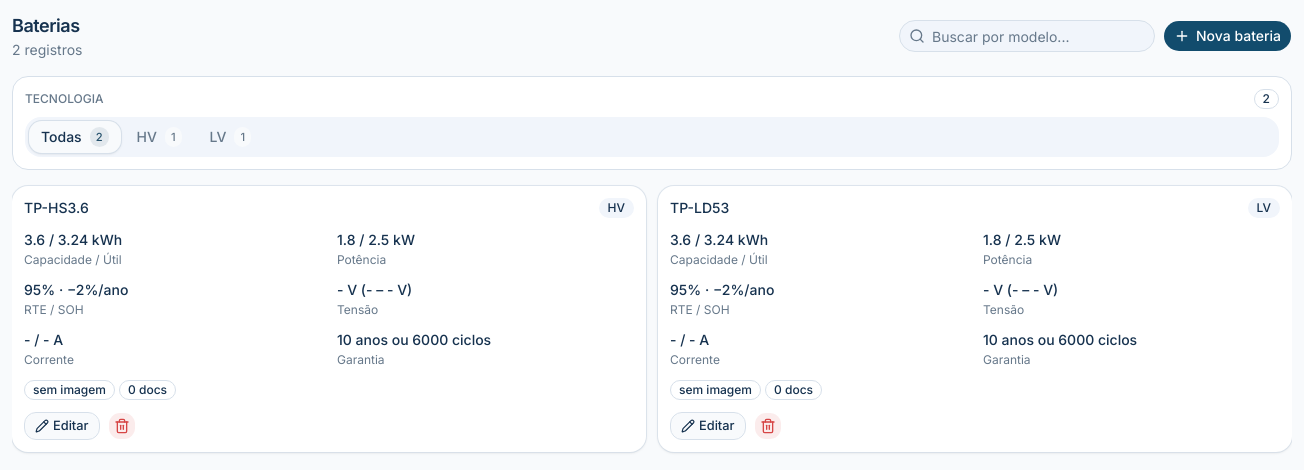
Scenario: BatteriesEditor: listing › filters by topology tab
Click the button "LV 1" at (230, 137), box [198, 121, 263, 153]
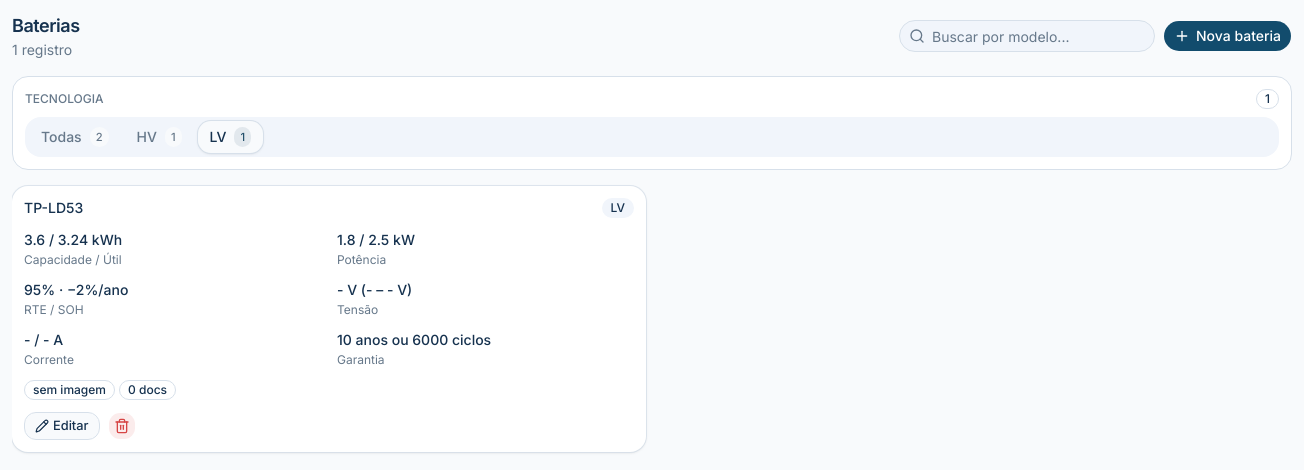
Check: the text "TP-LD53" is shown, box [24, 198, 83, 217]
Check: the text "TP-HS3.6" is gone
